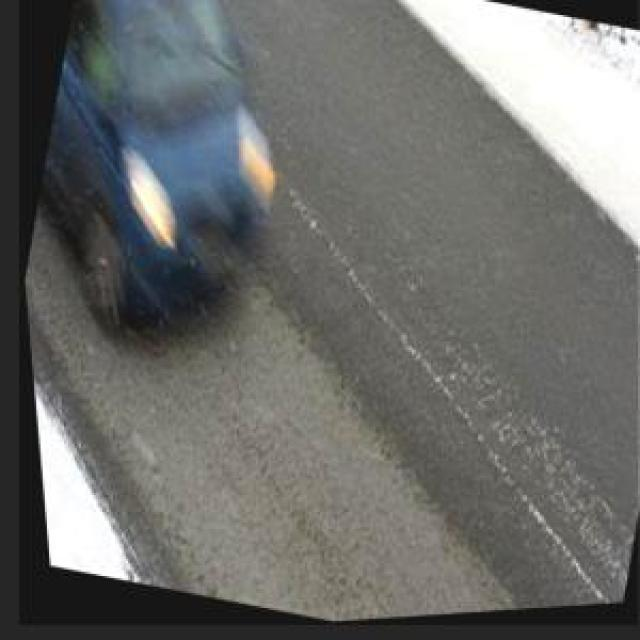clear-road: (20, 0, 640, 625)
